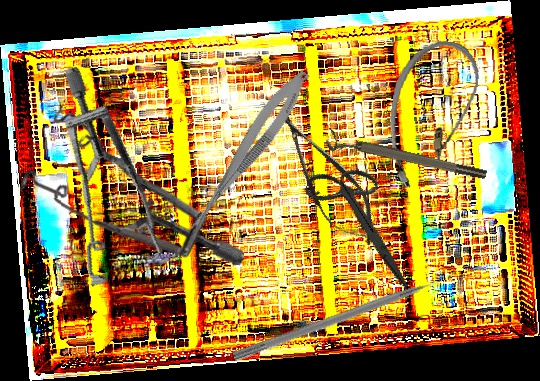Cannula: (380, 35, 484, 196)
Fixation Ring: (324, 128, 488, 189)
Iris Scissors: (284, 152, 442, 291)
Micro Scissor: (179, 63, 316, 247), (260, 97, 392, 259)
Pusher: (231, 271, 458, 364)
Speculum: (8, 64, 216, 308), (17, 105, 249, 265)
